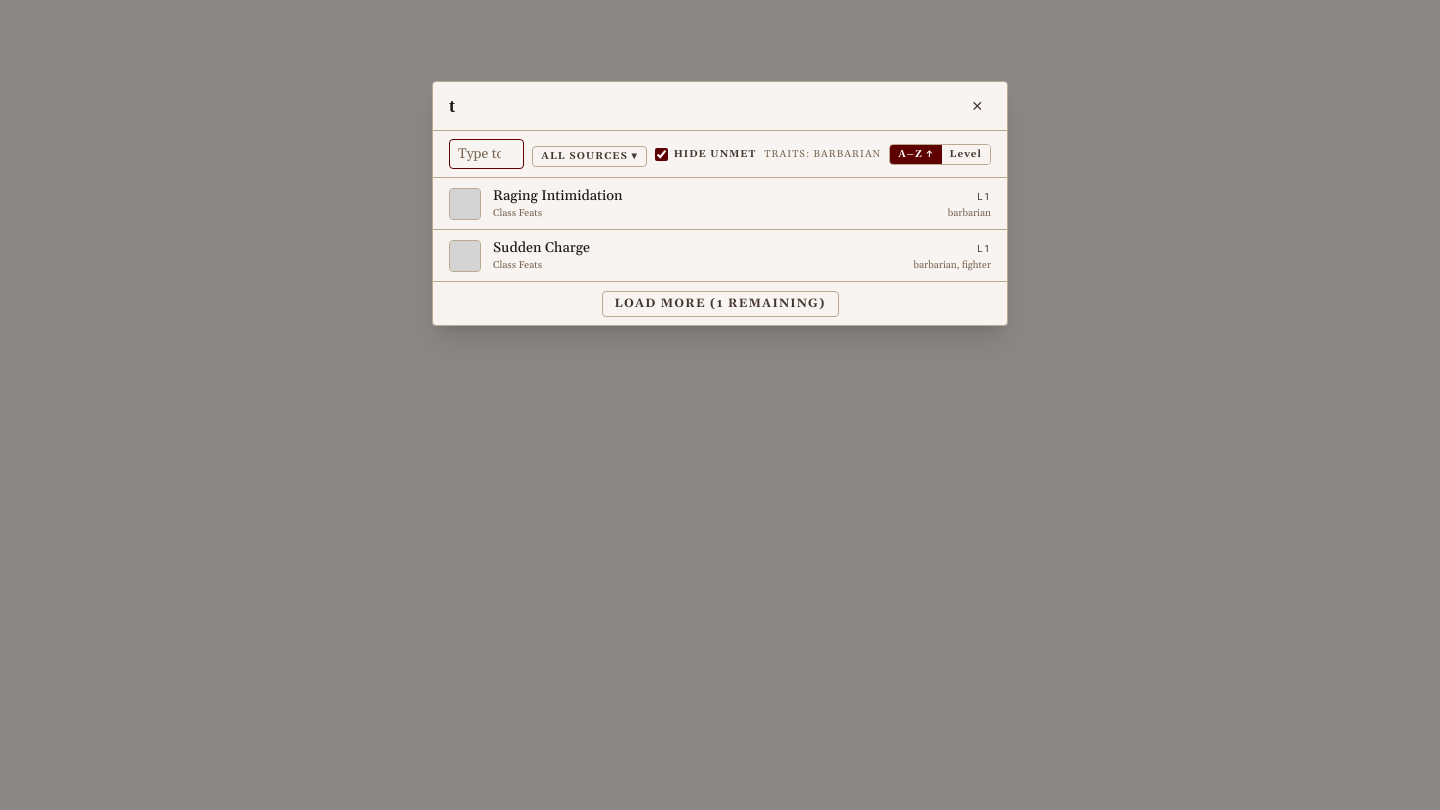
Test case: CreatorPicker › fetches the next page and appends results when "Load more" is clicked
Click the button with test id "feat-picker-load-more": (720, 304) [602, 291, 838, 317]
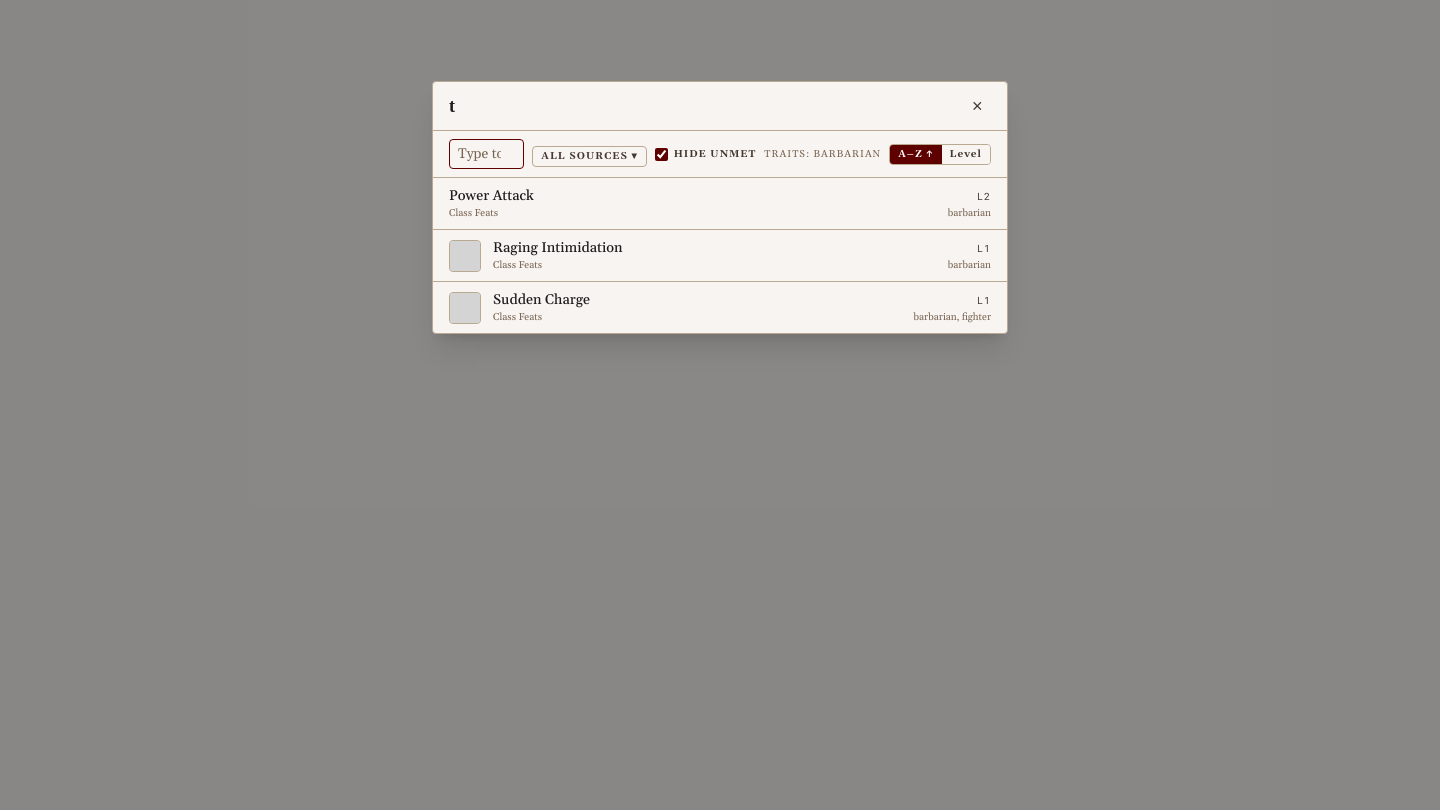
Expected: the text "Power Attack" is shown, [449, 186, 534, 206]
